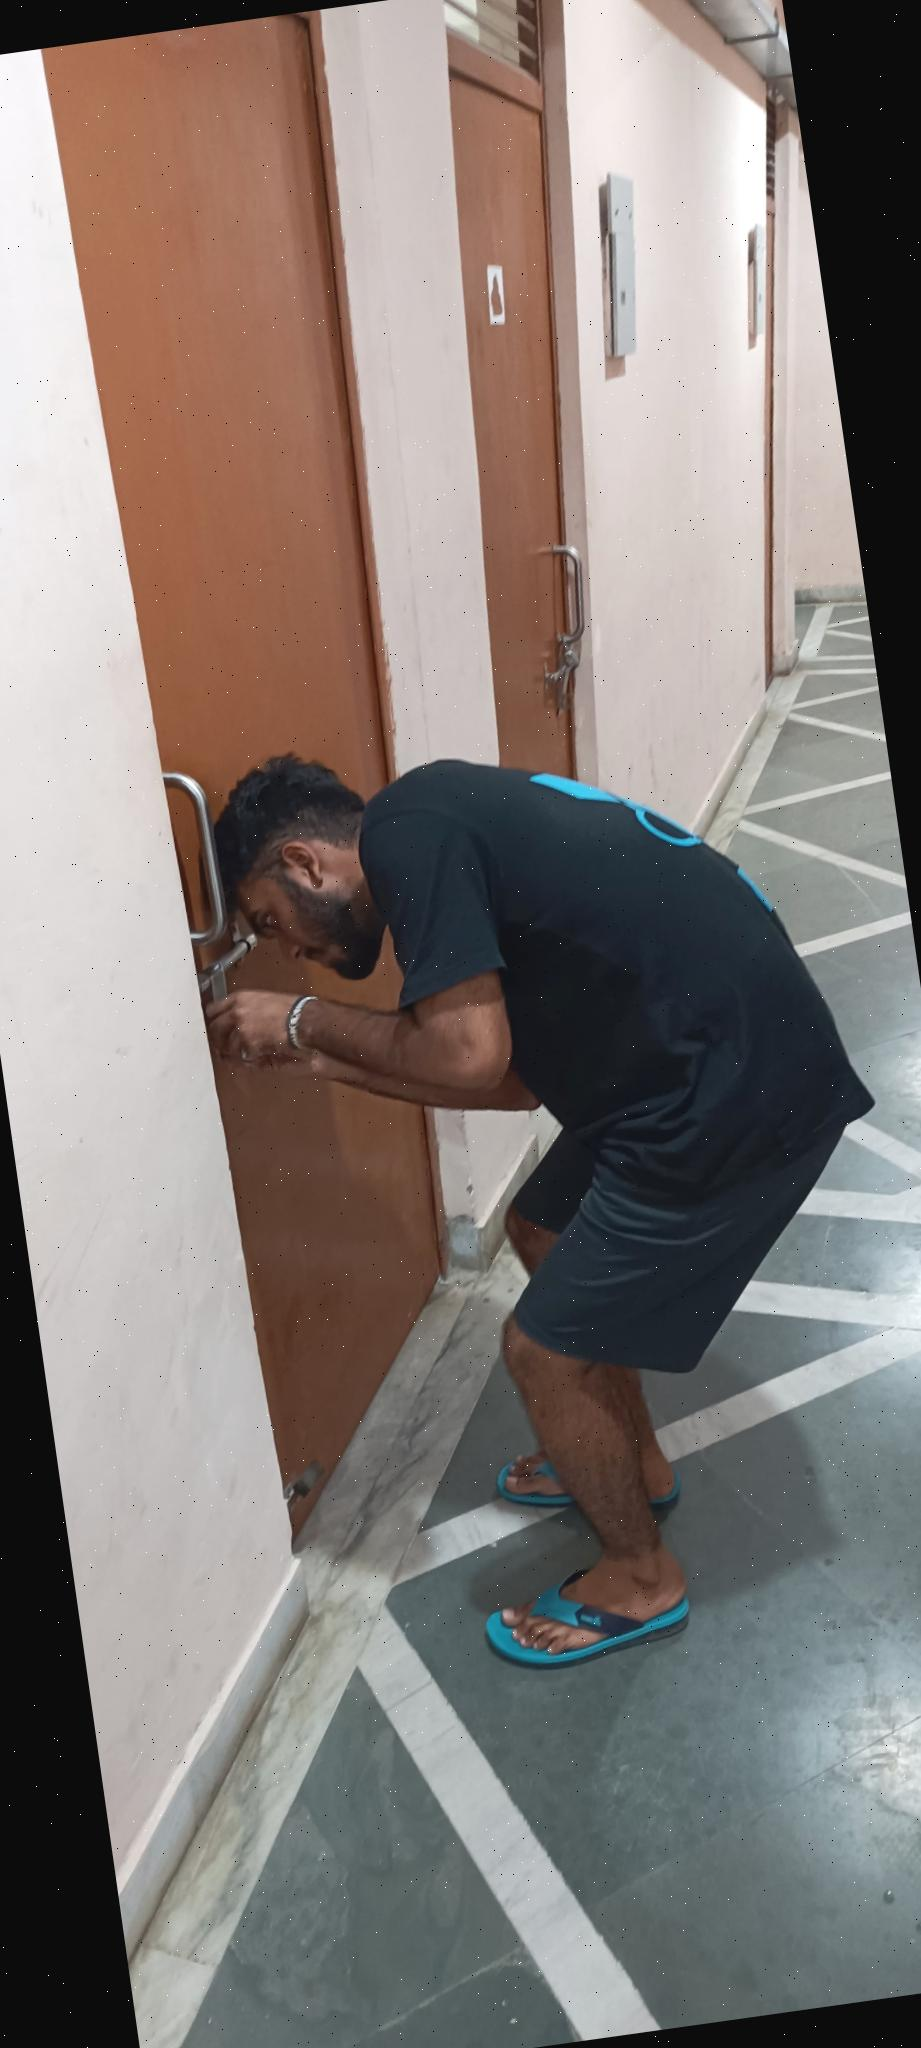suspicion: (91, 609, 921, 1761)
